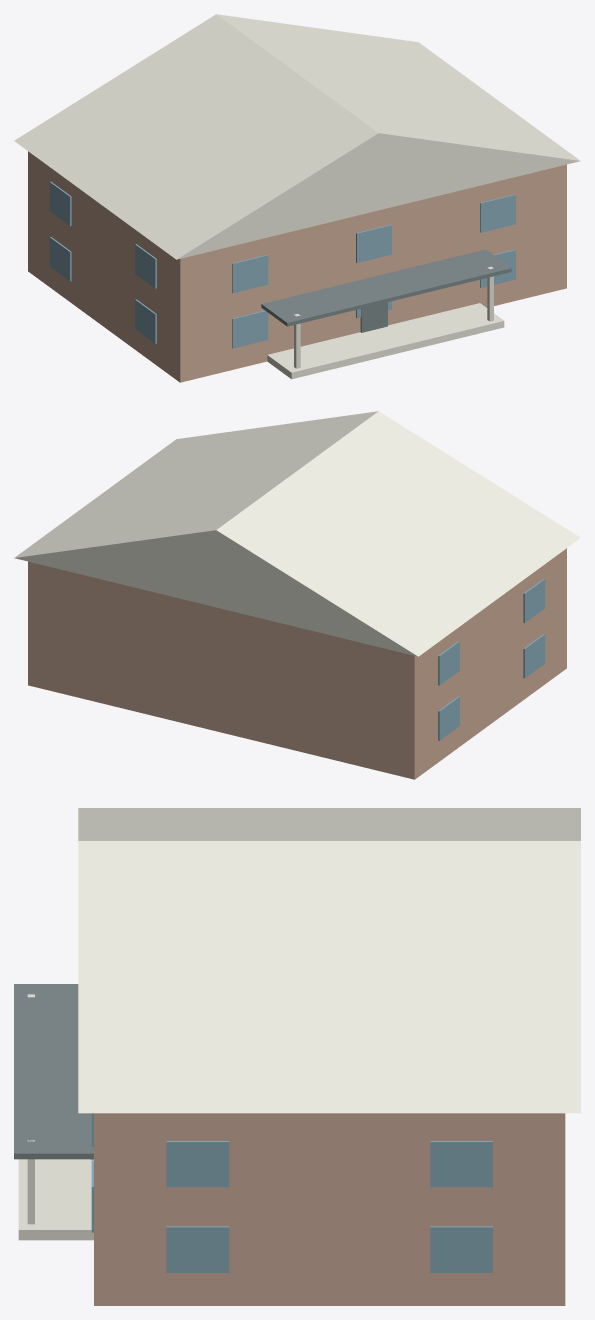
The picture shows the model from 3 angles, top to bottom: view 1: azimuth 30°, elevation 25°; view 2: azimuth 150°, elevation 25°; view 3: azimuth 270°, elevation 25°; orthographic projection. The views are drawn at different scales.
Size of the model in its own units: 23 by 11.2 by 18.05.
